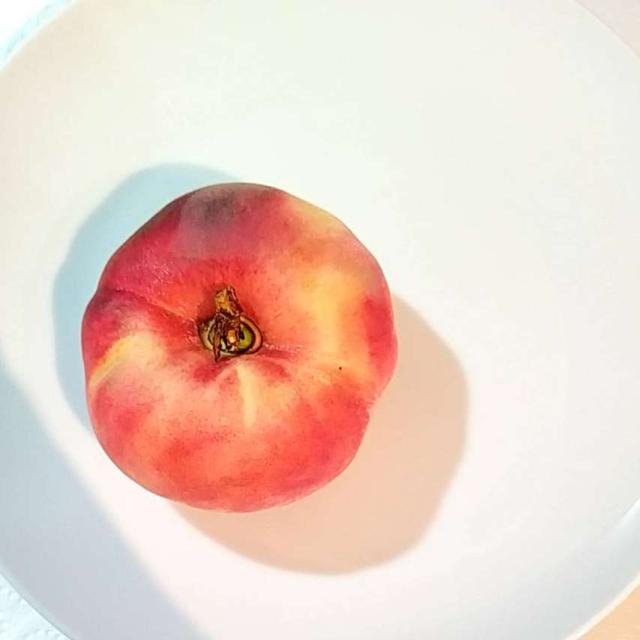peach: (84, 191, 392, 509)
